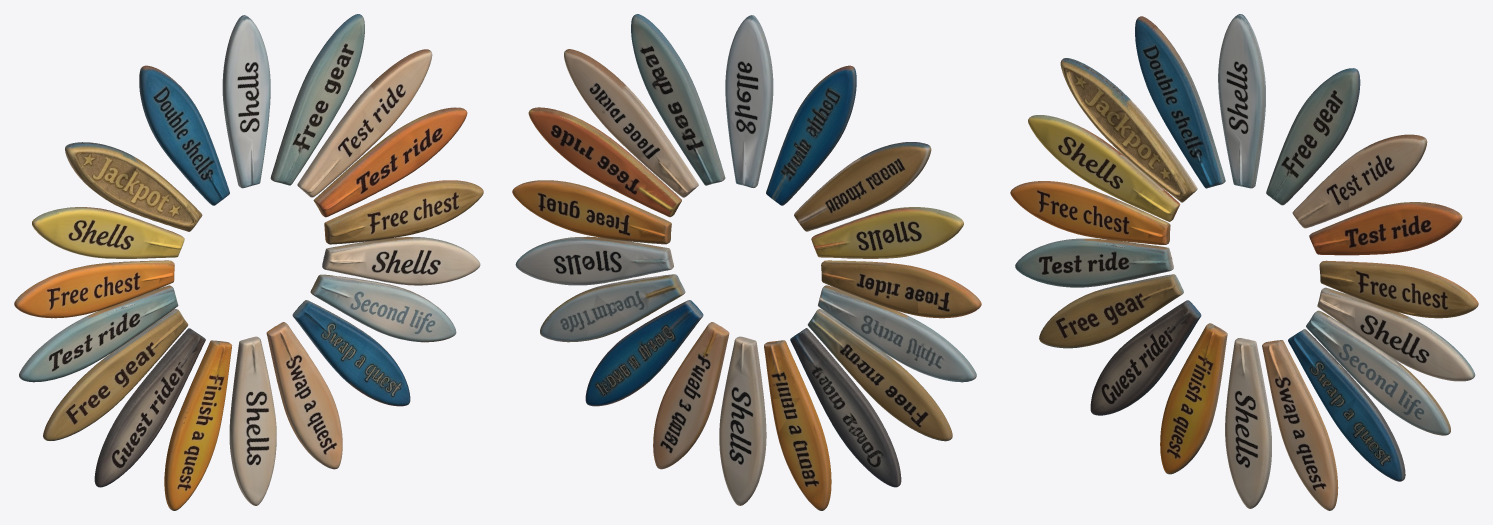
The model's file is wheelboards.glb.
3 views of the same model, side by side, from view 1: azimuth 30°, elevation 25°; view 2: azimuth 150°, elevation 25°; view 3: azimuth 330°, elevation 25° (orthographic).
Visible parts, largest first — view 1: boards; view 2: boards; view 3: boards.
Part boxes in pixels (bbox=[...]): boards: bbox=[14, 14, 483, 510]; boards: bbox=[512, 14, 981, 510]; boards: bbox=[1010, 14, 1478, 510].
Bounding box in the file's own units: 0.9825 × 0.9879 × 0.0323.
Materials: 1 (1 with a texture image).
